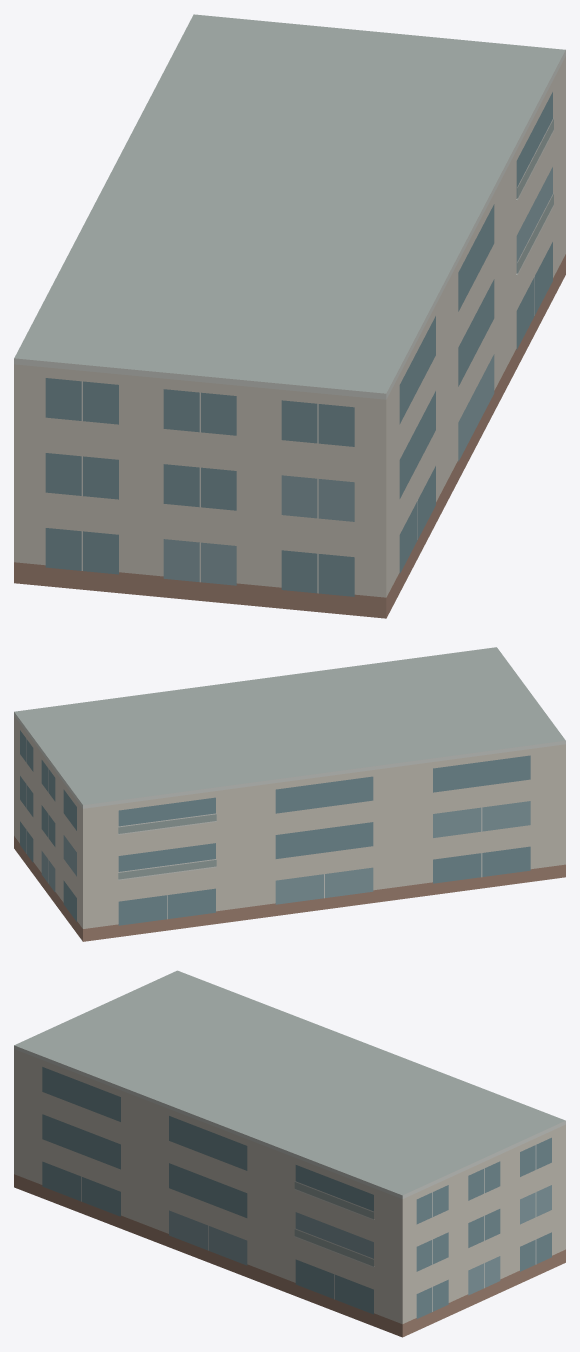
The model's file is survey-upis-32940445.glb.
The picture shows the model from 3 angles, top to bottom: view 1: azimuth 30°, elevation 25°; view 2: azimuth 150°, elevation 25°; view 3: azimuth 270°, elevation 25°; orthographic projection. The views are drawn at different scales.
Parts seen in each view (by area): view 1: survey-upis-32940445.tmp; view 2: survey-upis-32940445.tmp; view 3: survey-upis-32940445.tmp.
Part boxes in pixels (left/top/right/bottom): survey-upis-32940445.tmp: left=14, top=14, right=565, bottom=618; survey-upis-32940445.tmp: left=14, top=647, right=565, bottom=941; survey-upis-32940445.tmp: left=14, top=970, right=565, bottom=1337.
Size of the model in its own units: 31.09 by 9.15 by 32.23.
